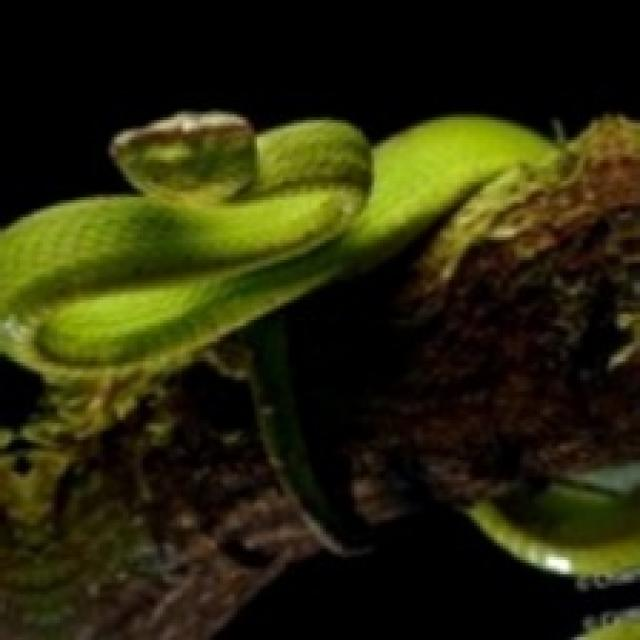north ph temple pitviper: (0, 111, 637, 637), (0, 111, 554, 520)
